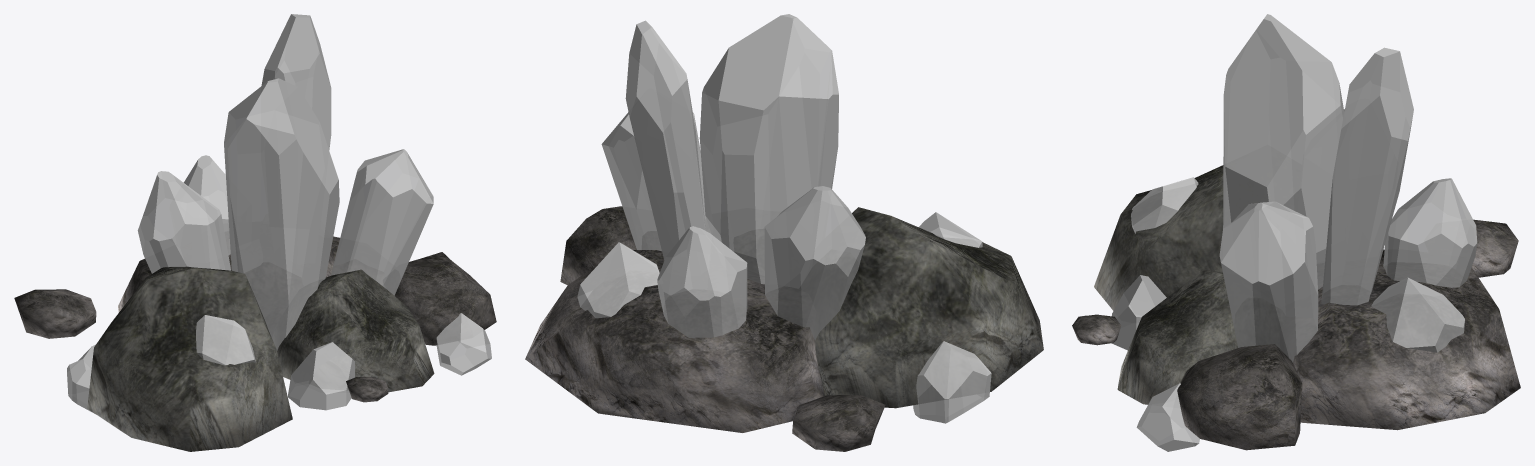
The model's file is Crystal Rock Cluster B.fbx.
3 renders of one model, left to right at view 1: azimuth 30°, elevation 25°; view 2: azimuth 150°, elevation 25°; view 3: azimuth 270°, elevation 25°, orthographic. The views are drawn at different scales.
Visible parts, largest first — view 1: Cube.154, Cube.164; view 2: Cube.154, Cube.164; view 3: Cube.164, Cube.154.
Part boxes in pixels (left/top/right/bottom): Cube.154: left=14, top=232, right=496, bottom=451; Cube.164: left=67, top=14, right=491, bottom=413; Cube.154: left=525, top=206, right=1043, bottom=451; Cube.164: left=577, top=14, right=991, bottom=423; Cube.164: left=1112, top=14, right=1477, bottom=451; Cube.154: left=1072, top=165, right=1520, bottom=450.
Size of the model in its own units: 693 by 605 by 549.
